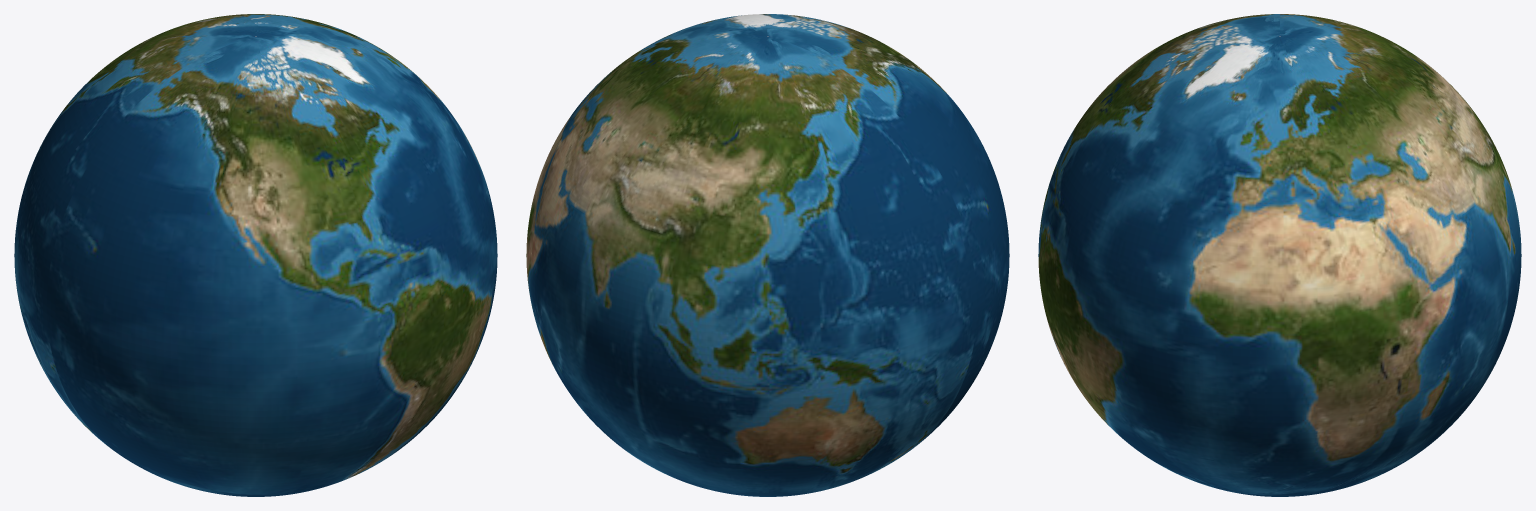
Rendered from Earth.obj.
The picture shows the model from 3 angles, left to right: view 1: azimuth 30°, elevation 25°; view 2: azimuth 150°, elevation 25°; view 3: azimuth 270°, elevation 25°; orthographic projection.
Visible parts, largest first — view 1: Sphere; view 2: Sphere; view 3: Sphere.
Part boxes in pixels (x1,y1,x2,y2): Sphere: (14, 14, 497, 496); Sphere: (526, 14, 1009, 496); Sphere: (1038, 14, 1521, 496).
Size of the model in its own units: 2 by 2 by 2.
Materials: 1 (1 with a texture image).
